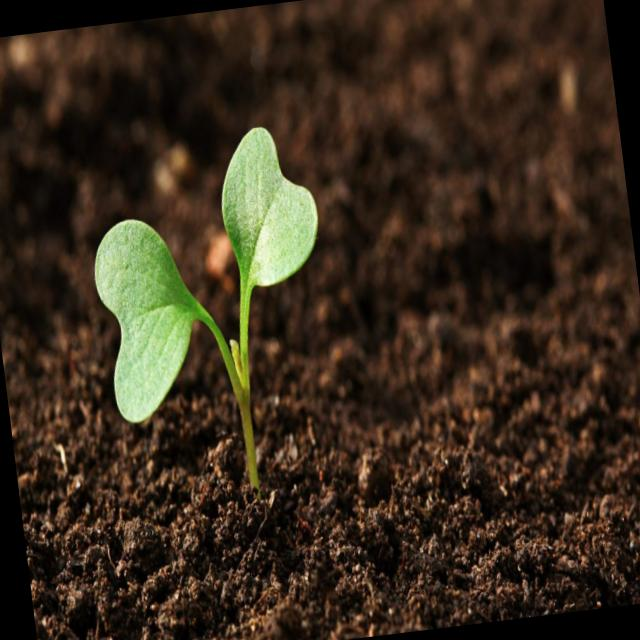suelo_humedo: (1, 6, 628, 628)
